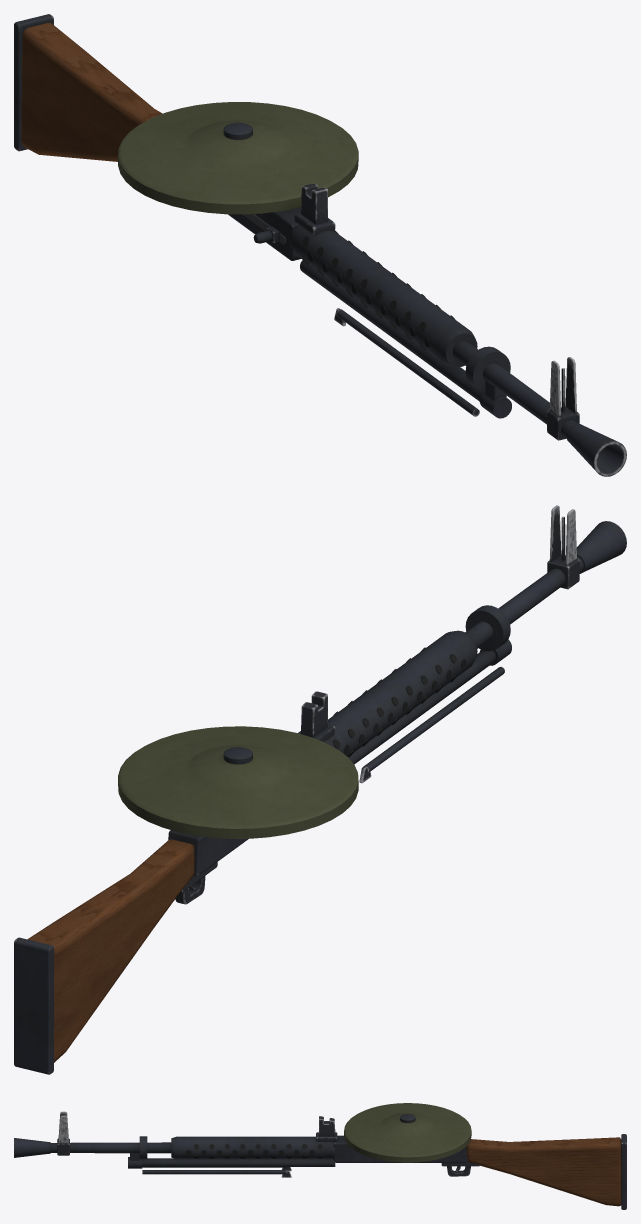
The model's file is lmg_dp28.glb.
3 views of the same model, one above another, from view 1: azimuth 30°, elevation 25°; view 2: azimuth 150°, elevation 25°; view 3: azimuth 270°, elevation 25° (orthographic). The views are drawn at different scales.
Parts seen in each view (by area): view 1: body, mag_mesh; view 2: body, mag_mesh; view 3: body, mag_mesh.
Part boxes in pixels (left/top/right/bottom): body: left=14, top=14, right=626, bottom=476; mag_mesh: left=118, top=102, right=358, bottom=214; body: left=14, top=505, right=626, bottom=1074; mag_mesh: left=118, top=726, right=358, bottom=838; body: left=14, top=1111, right=626, bottom=1209; mag_mesh: left=344, top=1103, right=471, bottom=1162.
Size of the model in its own units: 0.264 by 0.2099 by 1.27.
1 material, 1 textured.
